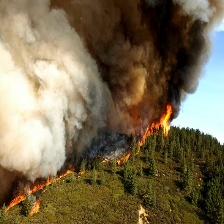fire: (115, 102, 183, 167), (3, 164, 82, 214)
smoke: (2, 1, 224, 184)
